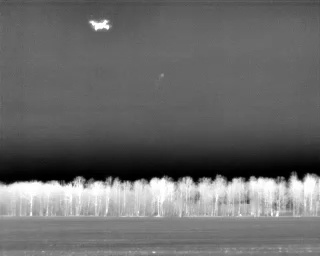DRONE: (86, 15, 116, 36)
